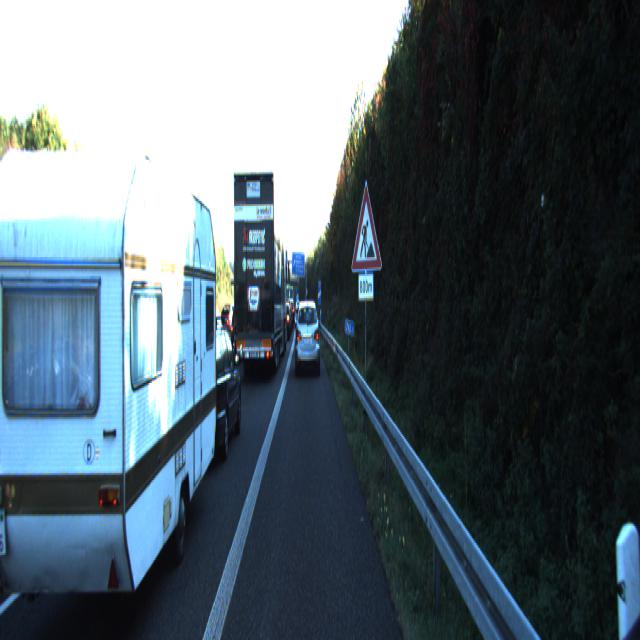Car: (0, 109, 218, 638), (233, 169, 287, 382), (168, 319, 243, 469), (294, 297, 320, 375)
